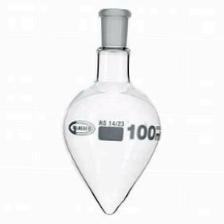Pear shaped flask: (47, 14, 162, 217)
